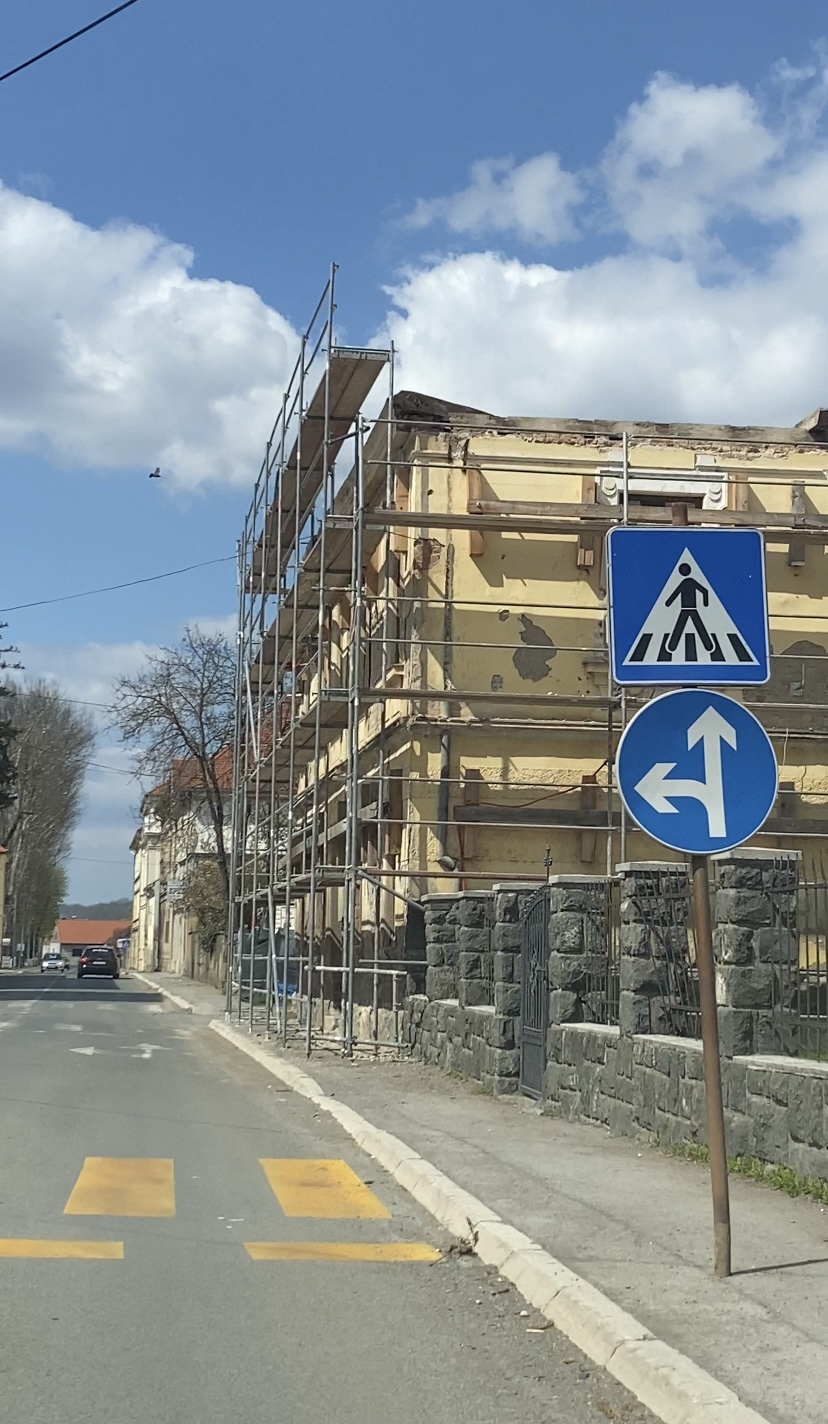Pješački prijelaz: (606, 526, 770, 685)
